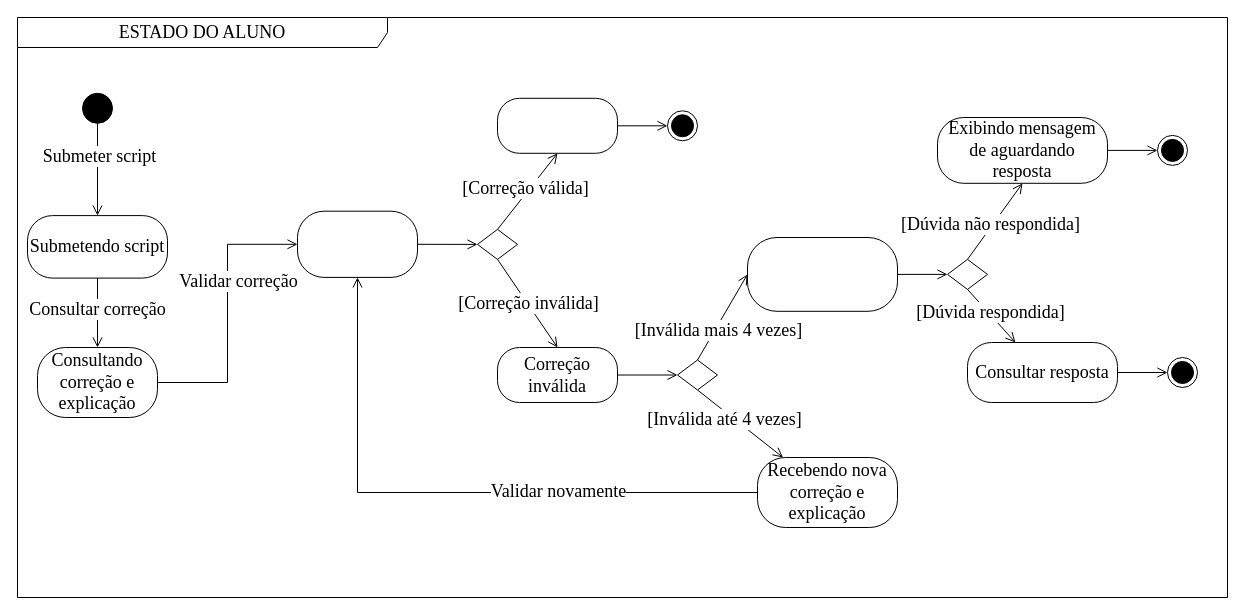
Image size: 1245x615. Some labels were removed from this diagram. The shapes that lost their labels are listed below. From the top down, each one's box as (x1, y1, x2, y2) in pixels, then its label:
(496, 97, 618, 153): correção válida
(296, 210, 418, 277): Validando correção
(746, 236, 898, 311): Enviar duvida para professor
